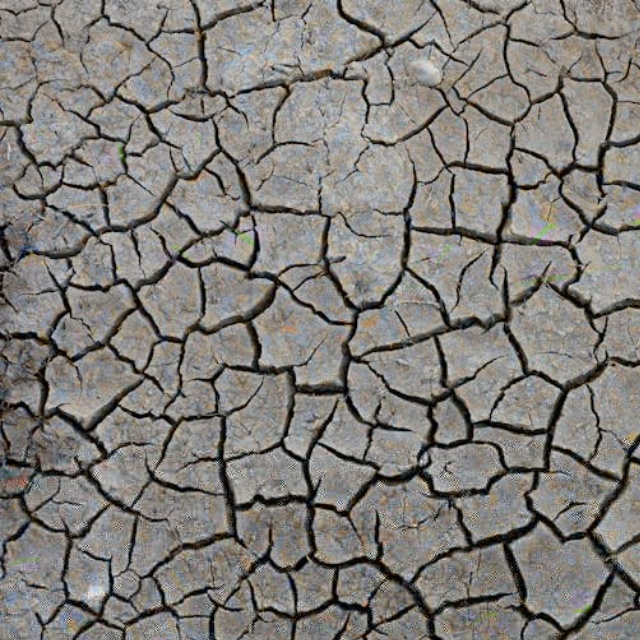网状裂隙: (0, 2, 640, 640)
